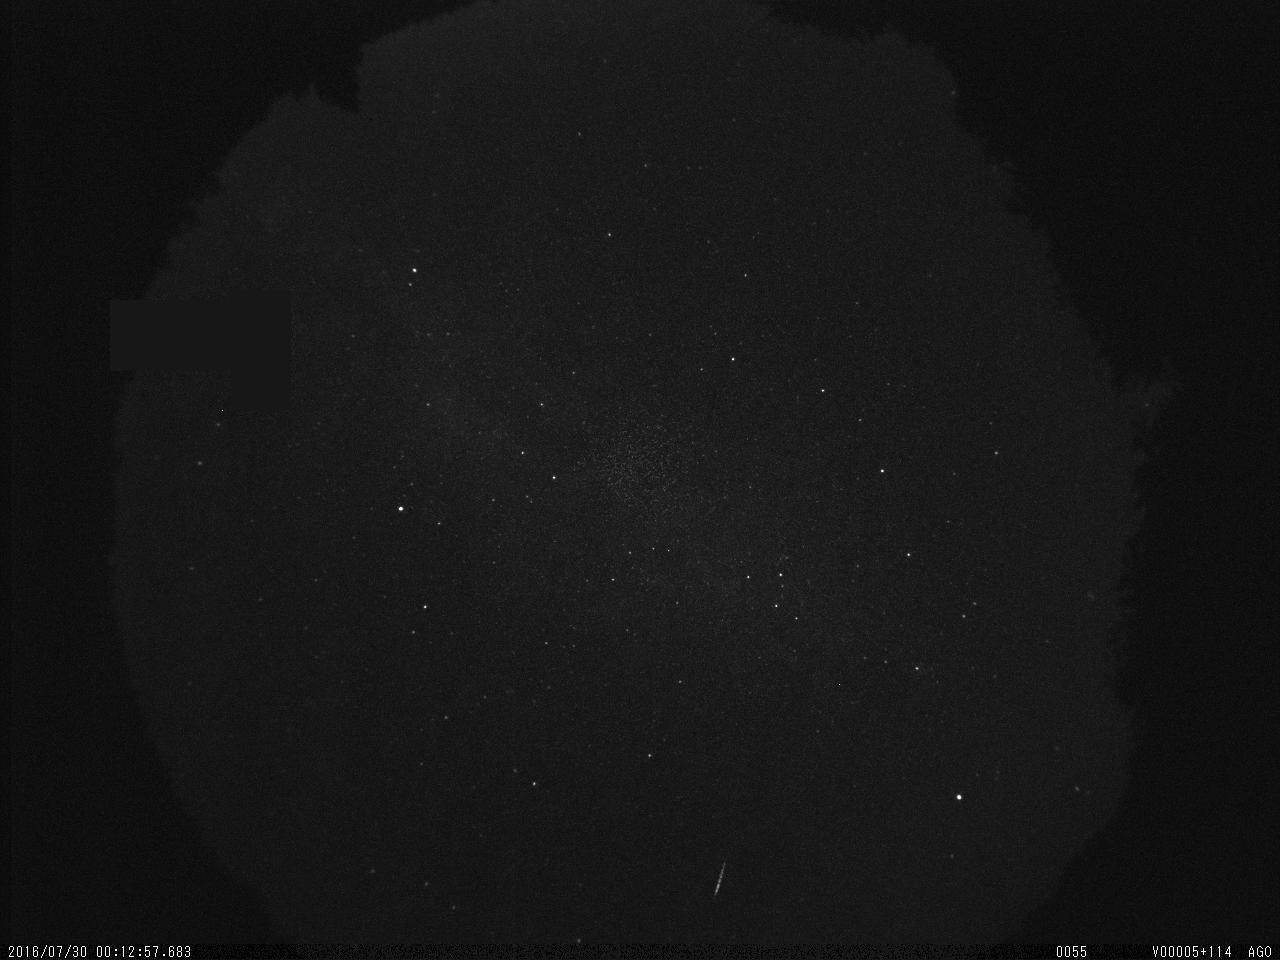Meteor: (711, 856, 729, 897)
